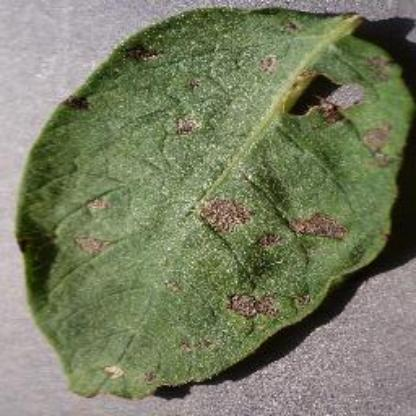Early-Blight: (17, 6, 409, 402)
